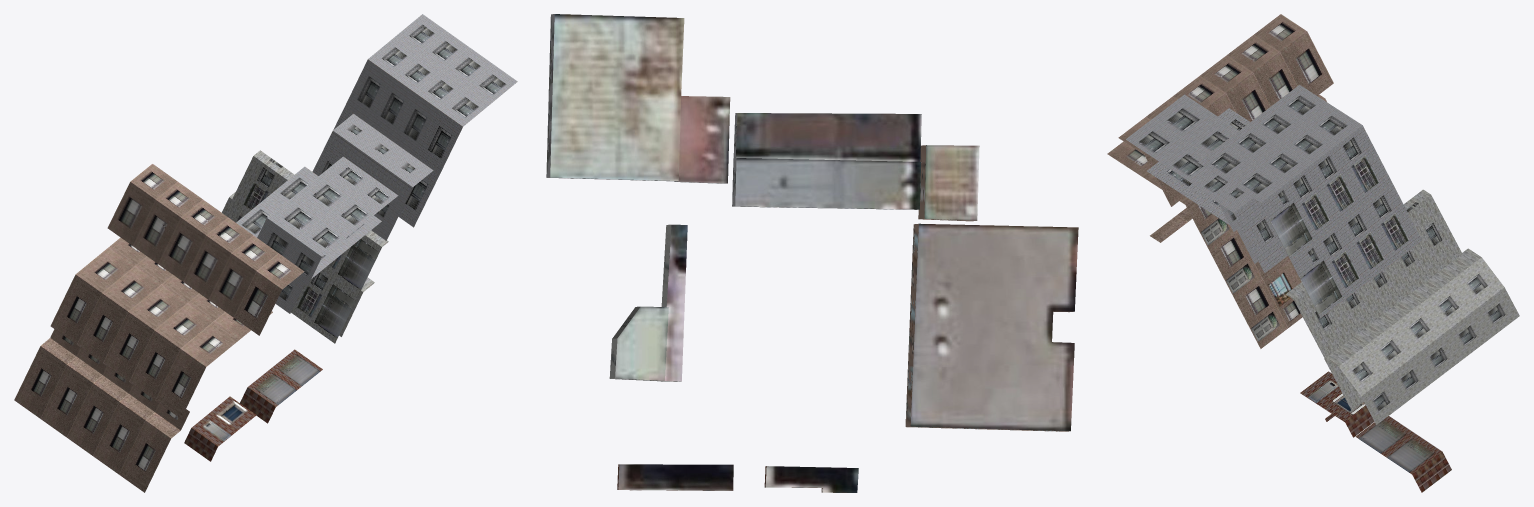
3 views of the same model, side by side, from view 1: azimuth 30°, elevation 25°; view 2: azimuth 150°, elevation 25°; view 3: azimuth 270°, elevation 25° (orthographic). The views are drawn at different scales.
Bounding box in the file's own units: 55.86 × 41.82 × 37.85.
34 materials, 34 textured.
